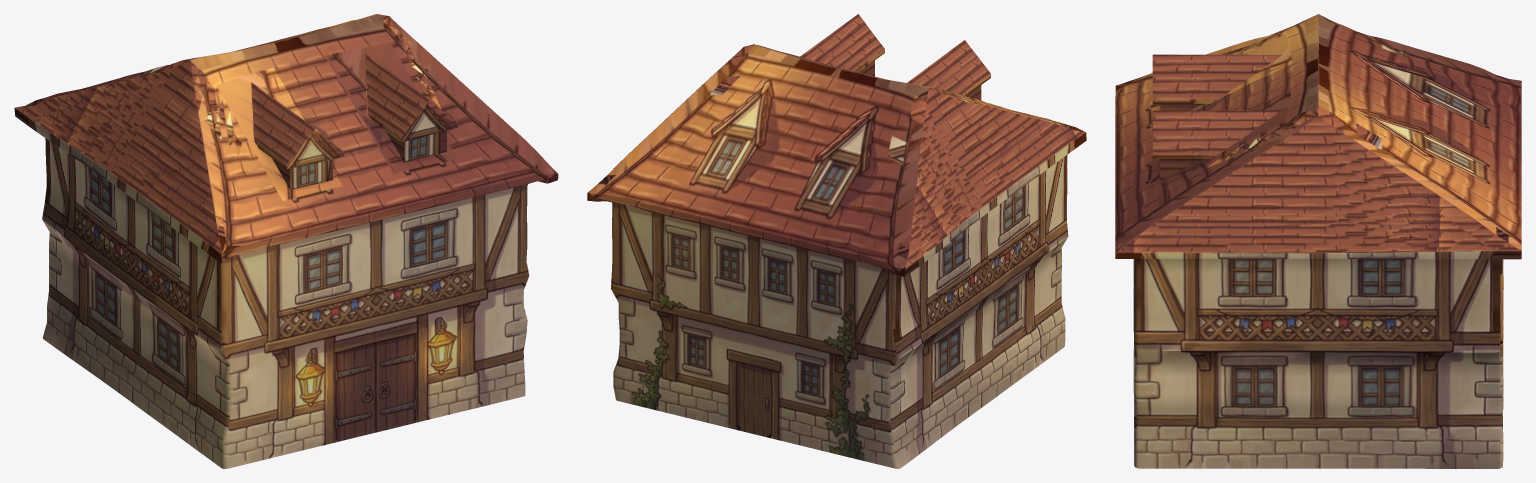
File: havre_relais.glb
The picture shows the model from 3 angles, left to right: view 1: azimuth 30°, elevation 25°; view 2: azimuth 150°, elevation 25°; view 3: azimuth 270°, elevation 25°; orthographic projection. The views are drawn at different scales.
Parts seen in each view (by area): view 1: havre_relais, porte_d, porte_g; view 2: havre_relais; view 3: havre_relais.
Part boxes in pixels (x1=…): havre_relais: x1=14, y1=14, x2=558, y2=468; porte_d: x1=374, y1=319, x2=416, y2=429; porte_g: x1=332, y1=330, x2=374, y2=439; havre_relais: x1=587, y1=14, x2=1086, y2=468; havre_relais: x1=1115, y1=14, x2=1521, y2=468.
Bounding box in the file's own units: 6.41 × 5.9 × 6.5.
1 material, 1 textured.
